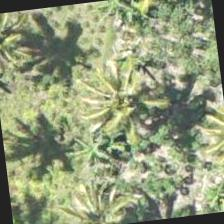Kelapa_Sawit: (69, 61, 169, 161), (48, 150, 147, 223), (0, 8, 51, 101)
